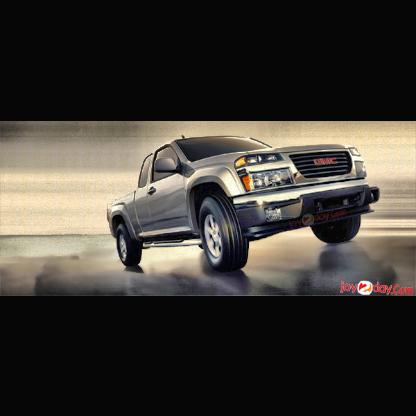GMC Canyon Extended Cab 2012: (106, 135, 383, 274)
